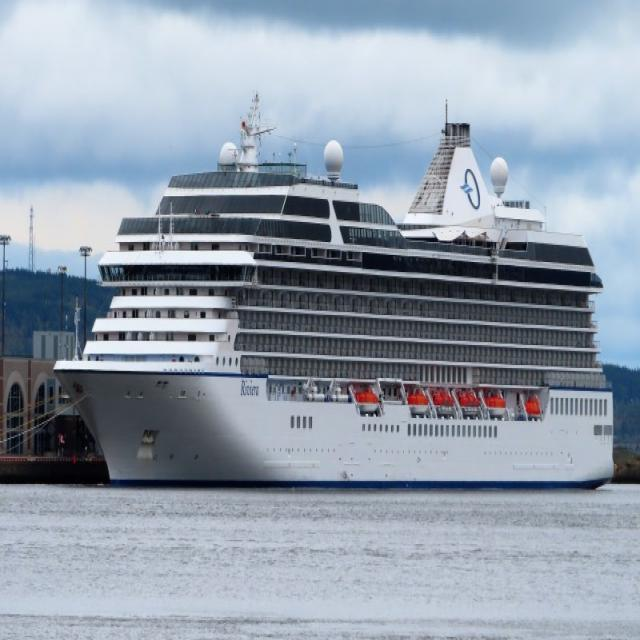cruises: (51, 90, 617, 499)
